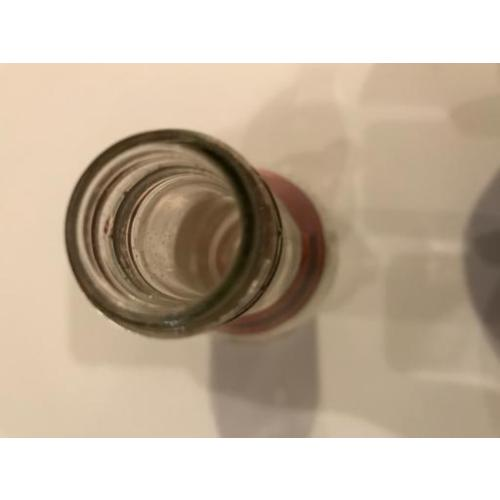glass: (68, 129, 326, 338)
